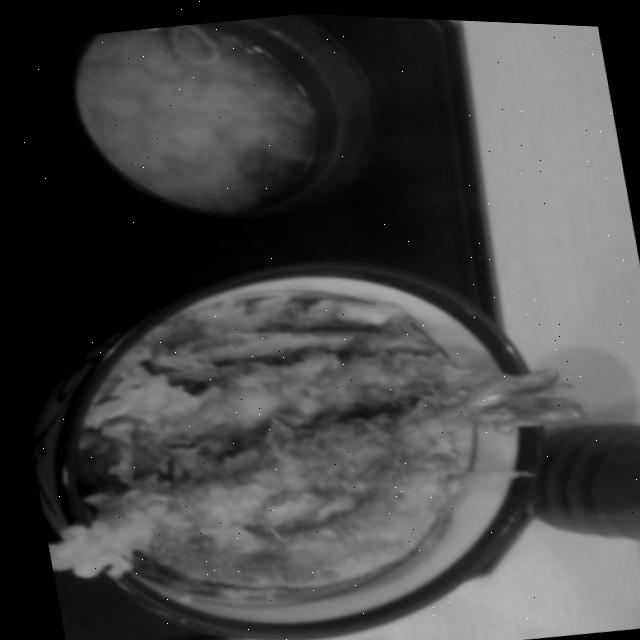汤锅炖物: (18, 1, 397, 251)
熟制海鲜: (6, 207, 640, 640)
